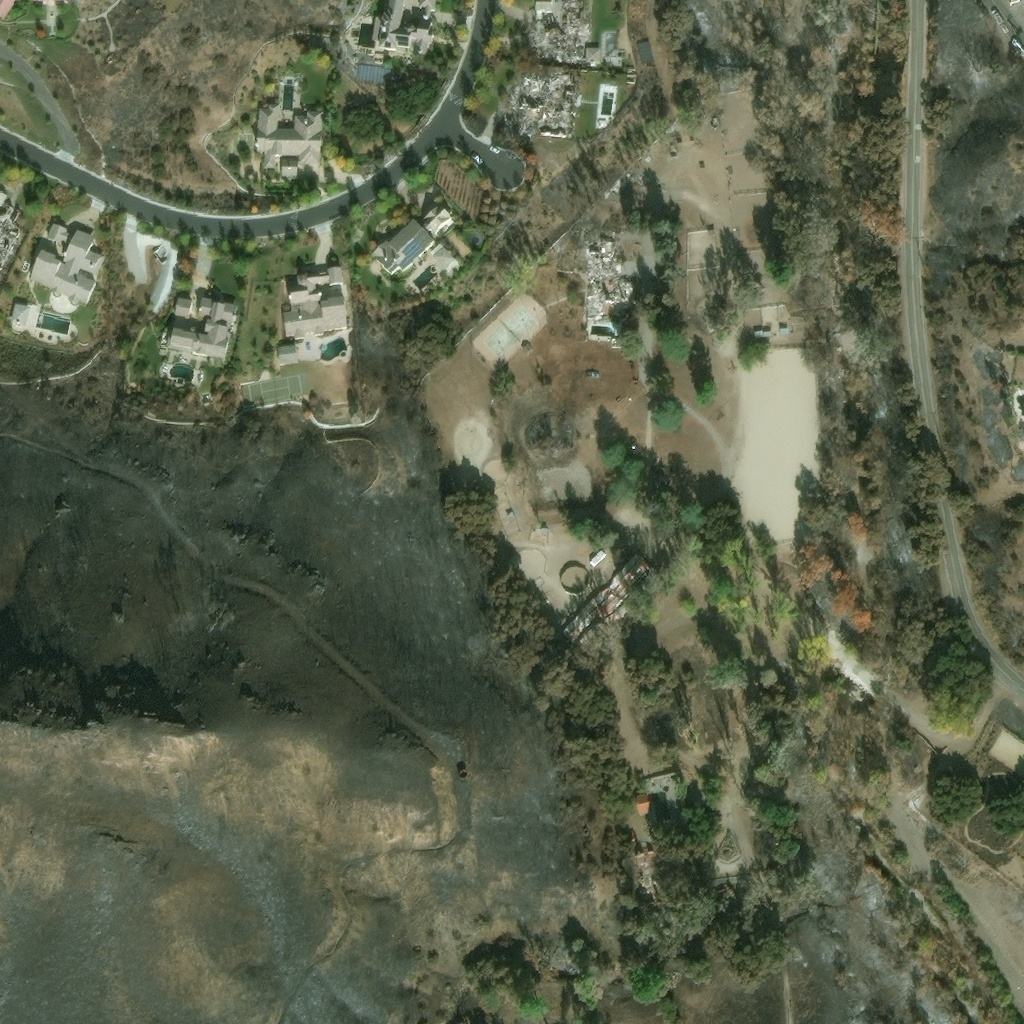0 no-damage: (32, 221, 105, 305), (282, 265, 348, 336), (256, 103, 323, 170), (168, 296, 237, 360), (373, 0, 437, 56), (379, 218, 436, 277), (630, 848, 669, 904), (428, 238, 466, 278), (423, 205, 457, 242), (360, 62, 392, 83), (636, 38, 655, 64), (277, 344, 300, 364), (11, 301, 30, 323), (634, 792, 652, 815), (0, 0, 18, 19), (590, 549, 608, 567), (282, 159, 299, 177), (175, 296, 192, 312), (587, 48, 601, 66), (536, 0, 552, 11), (780, 329, 791, 337), (756, 330, 765, 339), (765, 332, 772, 338)
2 major-damage: (563, 569, 636, 647), (0, 189, 23, 271)
3 destroyed: (506, 71, 583, 138), (525, 0, 587, 60), (599, 277, 632, 321), (701, 300, 727, 323), (599, 239, 617, 263)
4 un-classified: (718, 882, 742, 910)
